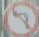Don't turn left: (1, 0, 38, 35)
